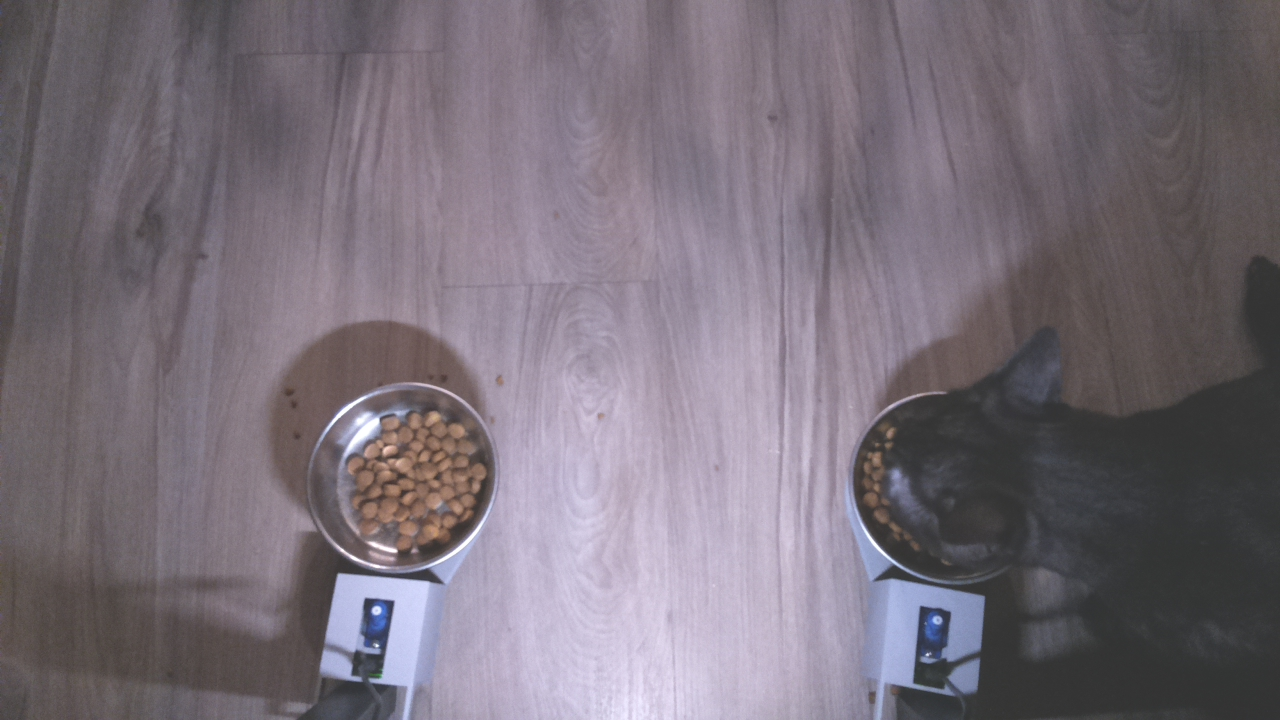open_bowl: (301, 373, 512, 582)
saki_eating: (840, 319, 1090, 598)
